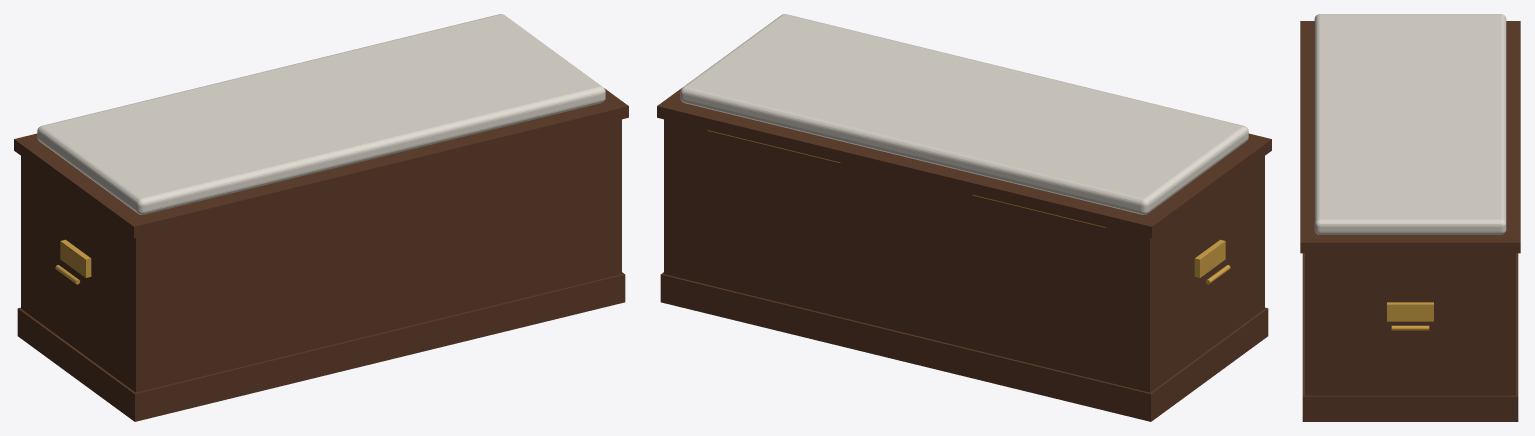
File: 038_storage_trunk_blanket_bench.glb
3 views of the same model, side by side, from view 1: azimuth 30°, elevation 25°; view 2: azimuth 150°, elevation 25°; view 3: azimuth 270°, elevation 25° (orthographic). The views are drawn at different scales.
Parts seen in each view (by area): view 1: 005_front_panel, 007_lid_cushion, 001_carcass_side_l, 000_base_frame, 006_lid, 003_carcass_bottom, 002_carcass_side_r, 010_handle_plate; view 2: 004_carcass_back_panel, 007_lid_cushion, 001_carcass_side_l, 000_base_frame, 006_lid, 002_carcass_side_r, 010_handle_plate; view 3: 007_lid_cushion, 002_carcass_side_r, 006_lid, 000_base_frame, 012_handle_plate, 013_handle_bail.
Part boxes in pixels (<box>): 005_front_panel: <box>144,121,612,389</box>; 007_lid_cushion: <box>37,14,605,214</box>; 001_carcass_side_l: <box>21,156,144,392</box>; 000_base_frame: <box>17,272,625,421</box>; 006_lid: <box>14,88,628,238</box>; 003_carcass_bottom: <box>144,267,612,390</box>; 002_carcass_side_r: <box>613,119,621,276</box>; 010_handle_plate: <box>60,239,91,277</box>; 004_carcass_back_panel: <box>673,121,1141,390</box>; 007_lid_cushion: <box>680,14,1248,214</box>; 001_carcass_side_l: <box>1141,156,1264,392</box>; 000_base_frame: <box>660,272,1268,421</box>; 006_lid: <box>657,88,1271,238</box>; 002_carcass_side_r: <box>664,119,672,276</box>; 010_handle_plate: <box>1194,239,1225,277</box>; 007_lid_cushion: <box>1314,14,1506,234</box>; 002_carcass_side_r: <box>1305,253,1515,395</box>; 006_lid: <box>1300,21,1520,253</box>; 000_base_frame: <box>1302,253,1518,421</box>; 012_handle_plate: <box>1387,302,1433,321</box>; 013_handle_bail: <box>1391,325,1429,330</box>.
Size of the model in its own units: 1.16 by 0.46 by 0.47.
